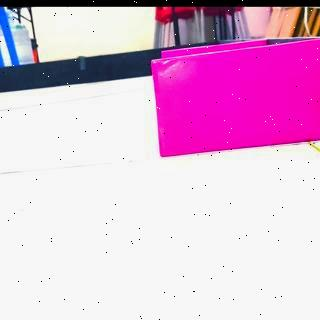xparking: (155, 46, 320, 143)
